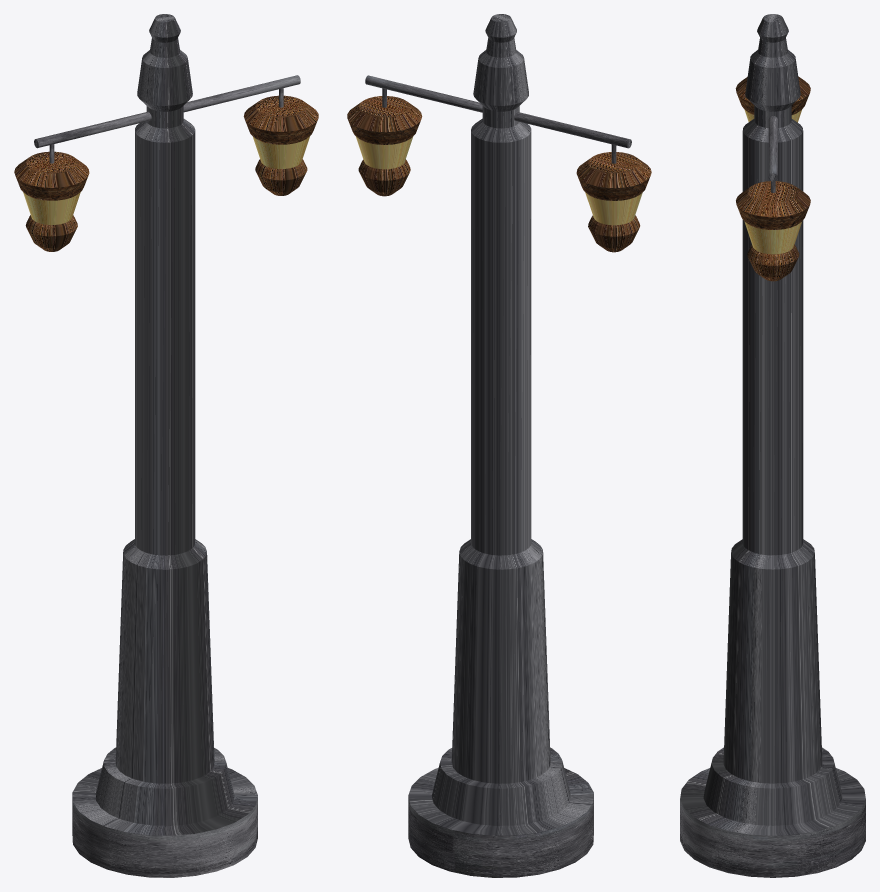
Rendered from FarolText.fbx.
3 views of the same model, side by side, from view 1: azimuth 30°, elevation 25°; view 2: azimuth 150°, elevation 25°; view 3: azimuth 270°, elevation 25° (orthographic).
Visible parts, largest first — view 1: Cylinder007; view 2: Cylinder007; view 3: Cylinder007.
Part boxes in pixels (<box>): Cylinder007: <box>14,14,318,877</box>; Cylinder007: <box>347,14,651,877</box>; Cylinder007: <box>680,14,865,877</box>.
Bounding box in the file's own units: 0.6106 × 1.63 × 0.3338.
